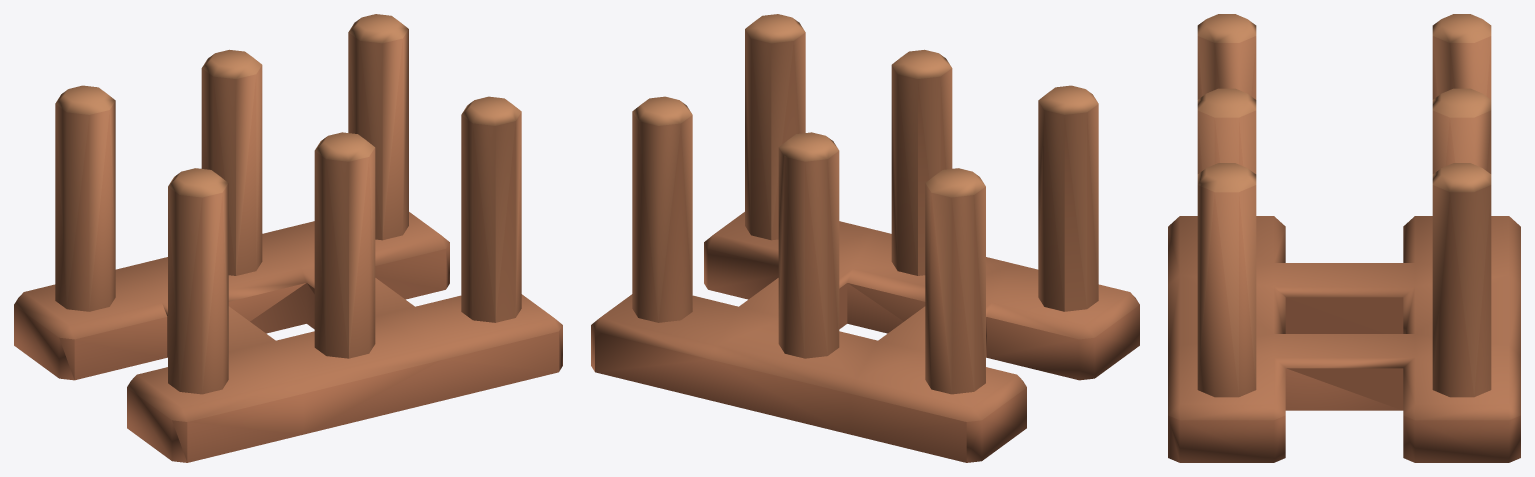
Rendered from dishrack.glb.
3 views of the same model, side by side, from view 1: azimuth 30°, elevation 25°; view 2: azimuth 150°, elevation 25°; view 3: azimuth 270°, elevation 25° (orthographic). The views are drawn at different scales.
Parts seen in each view (by area): view 1: dishrack; view 2: dishrack; view 3: dishrack.
Part boxes in pixels (x1,y1,x2,y2): dishrack: (14, 14, 562, 462); dishrack: (591, 14, 1139, 462); dishrack: (1168, 14, 1520, 462).
Size of the model in its own units: 0.5 by 0.3125 by 0.375.
